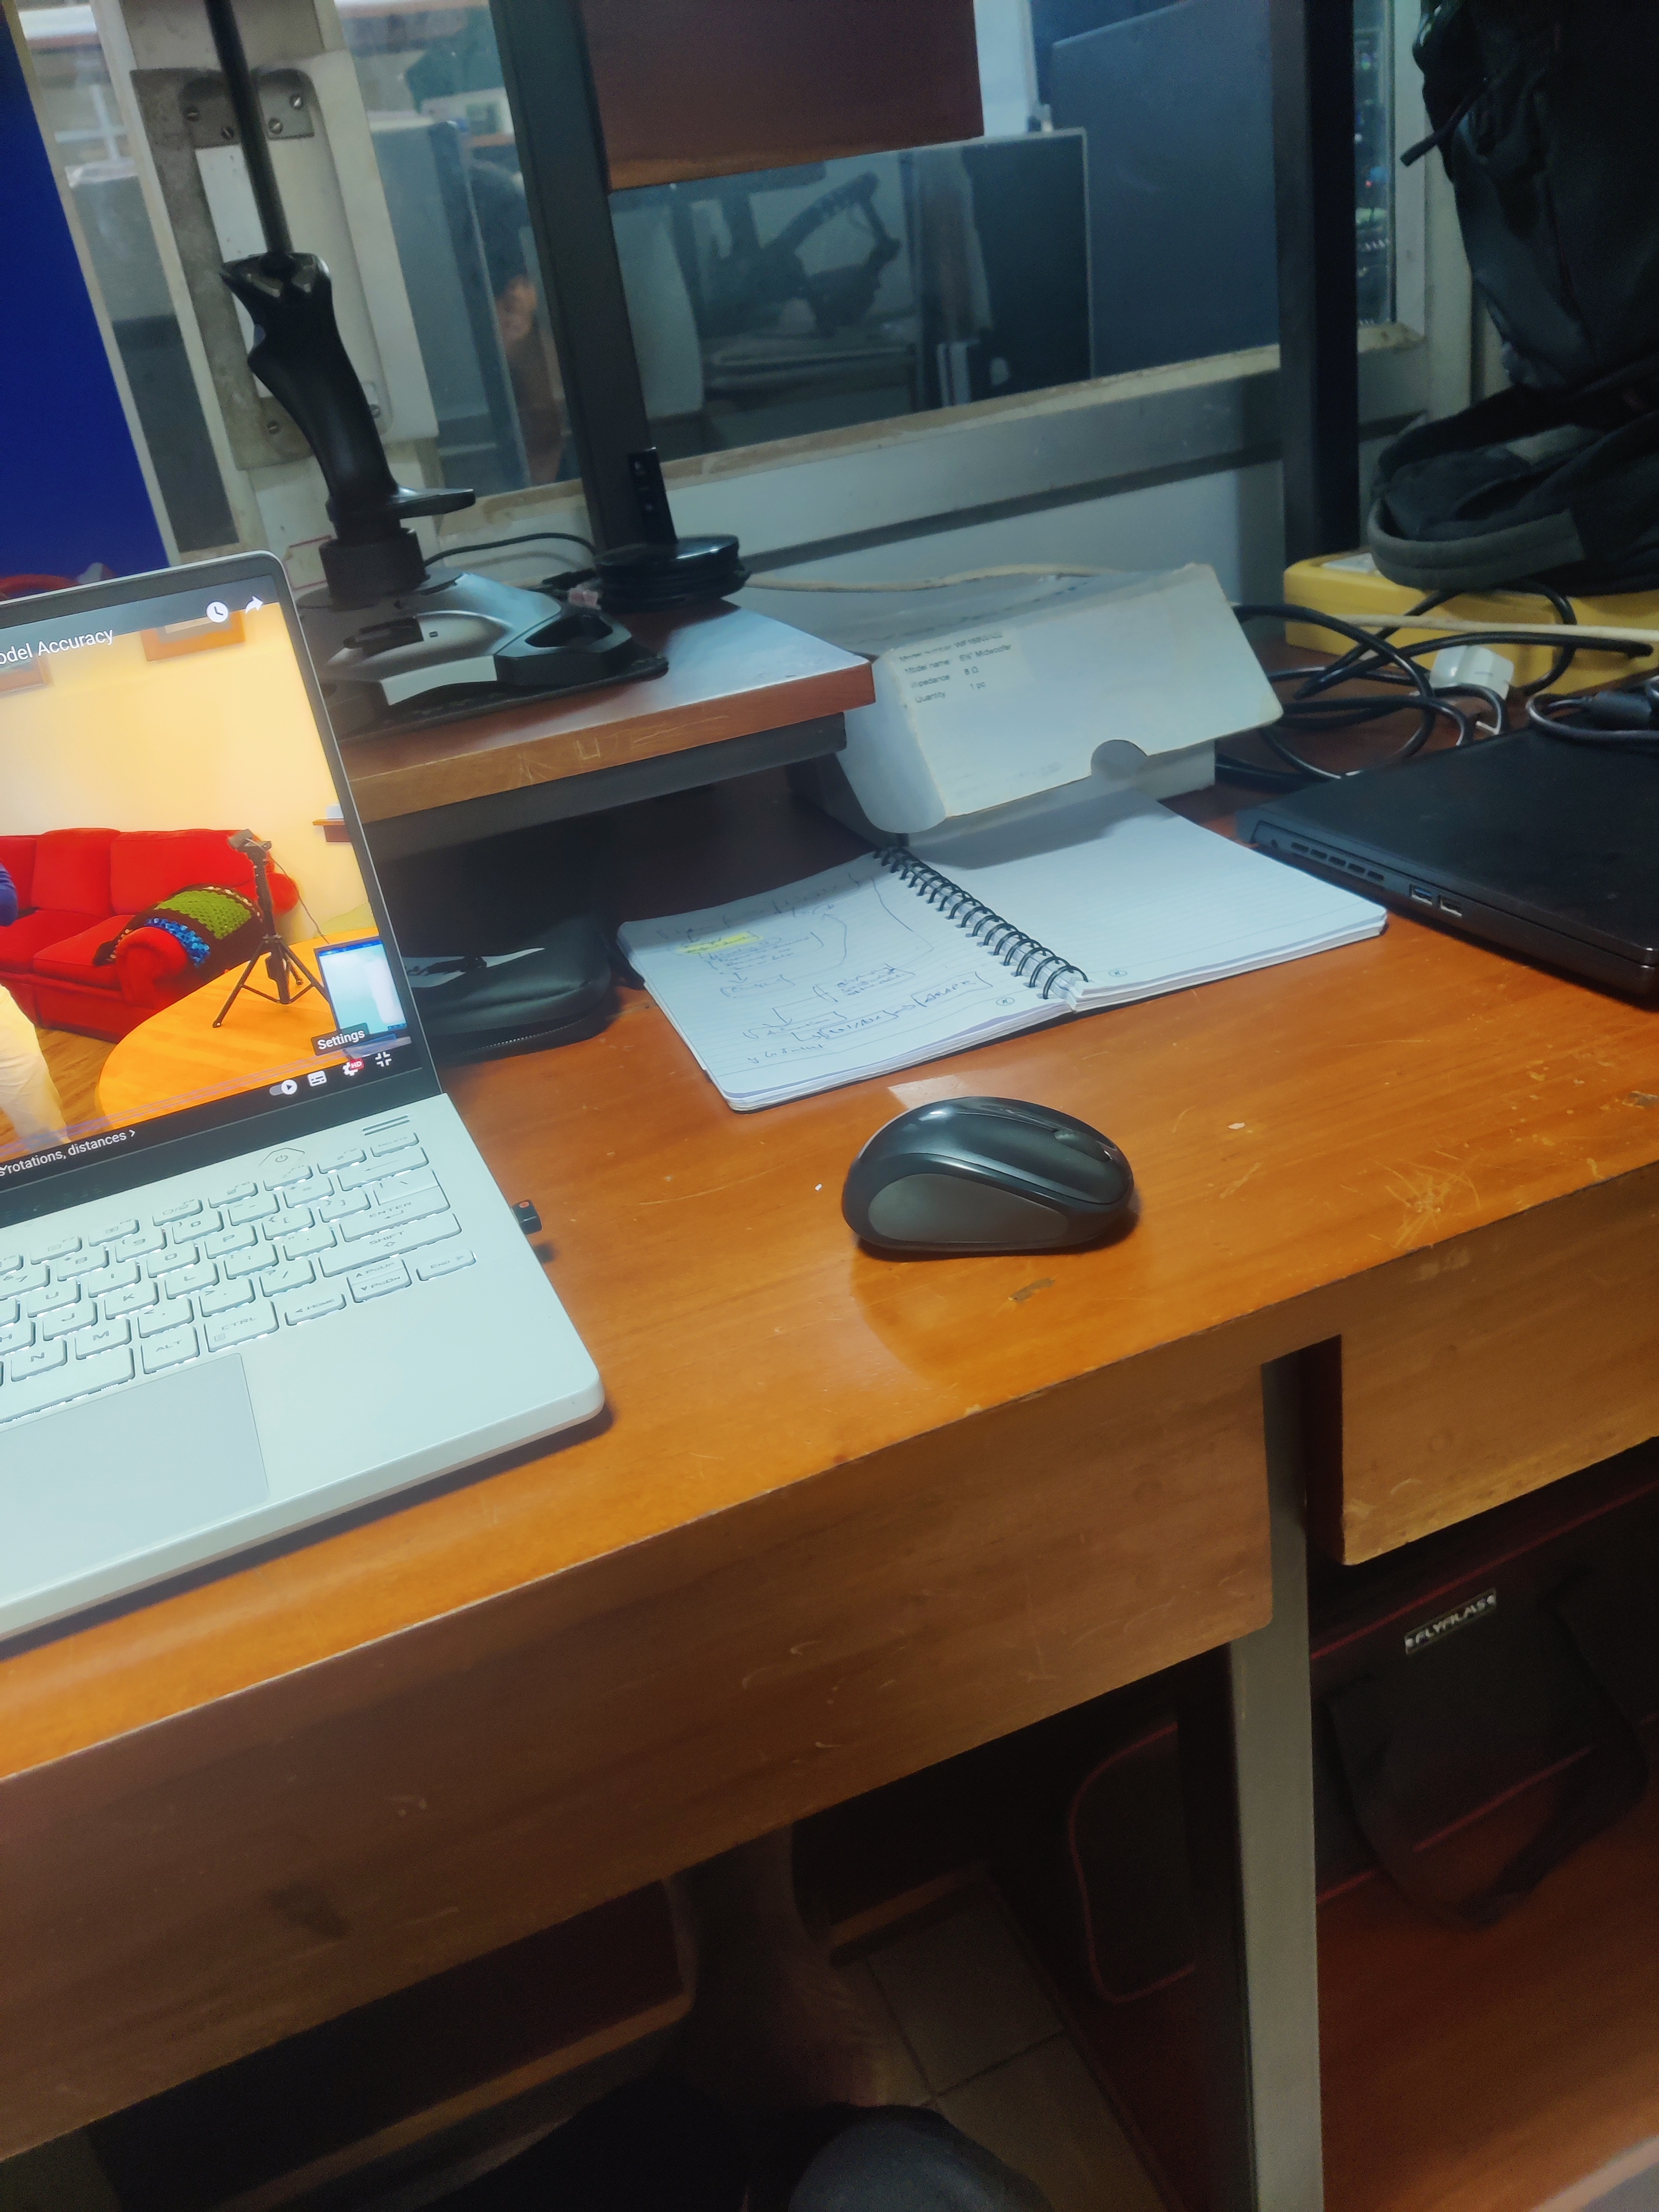logitechMouse: (835, 1087, 1147, 1268)
